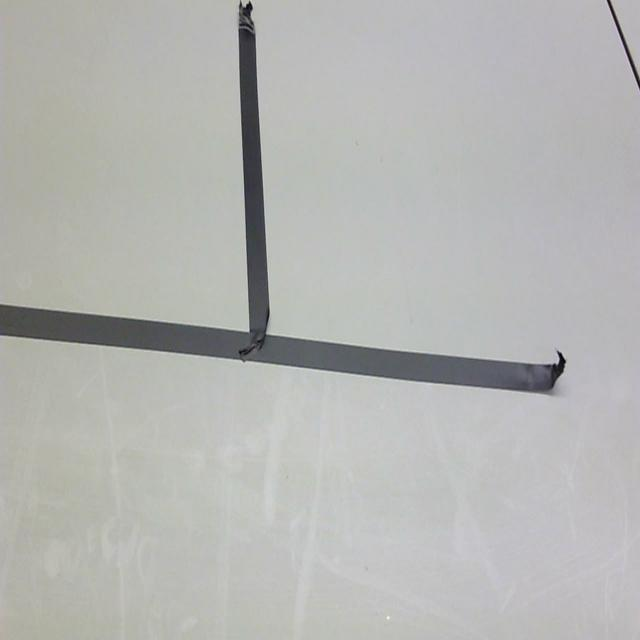tape: (0, 0, 588, 417)
